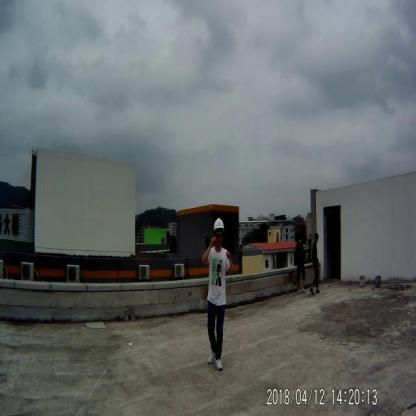person: (200, 208, 241, 383), (290, 233, 306, 297), (309, 229, 323, 296)
white-helm: (210, 213, 226, 237)
